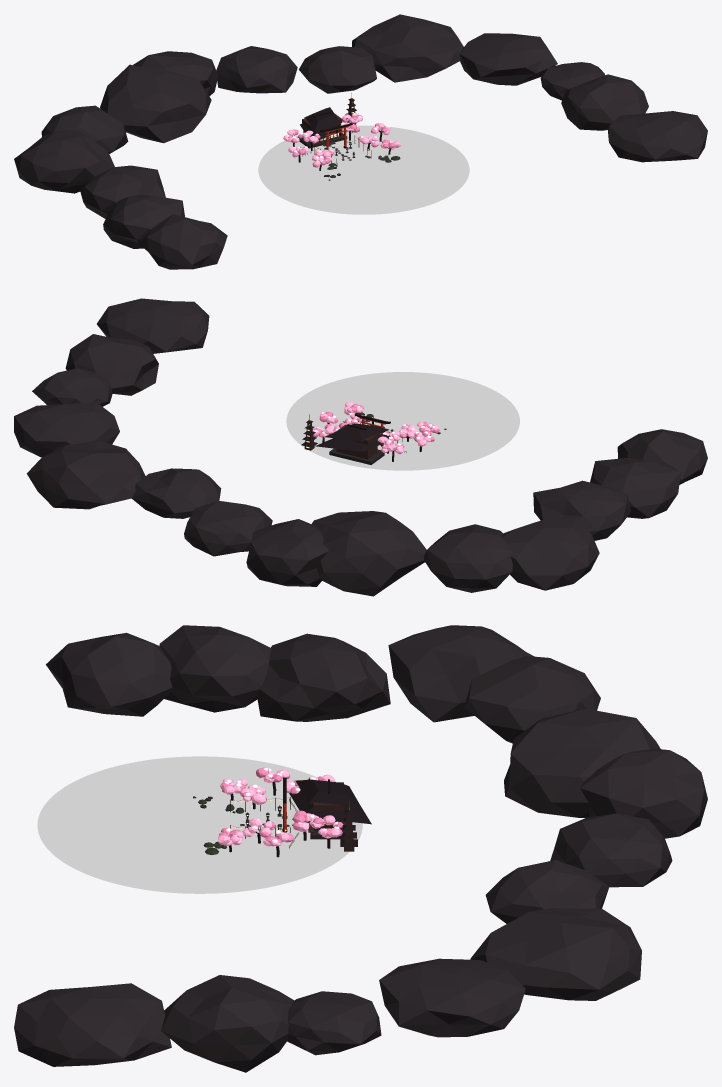
3 views of the same model, one above another, from view 1: azimuth 30°, elevation 25°; view 2: azimuth 150°, elevation 25°; view 3: azimuth 270°, elevation 25° (orthographic). The views are drawn at different scales.
Parts seen in each view (by area): view 1: decor, sol; view 2: decor, sol; view 3: decor, sol.
Part boxes in pixels (left/top/right/bottom): decor: left=14, top=14, right=707, bottom=269; sol: left=258, top=125, right=469, bottom=214; decor: left=14, top=298, right=707, bottom=596; sol: left=286, top=372, right=519, bottom=470; decor: left=14, top=625, right=707, bottom=1072; sol: left=37, top=756, right=362, bottom=893.
Bounding box in the file's own units: 293 × 33.08 × 205.
